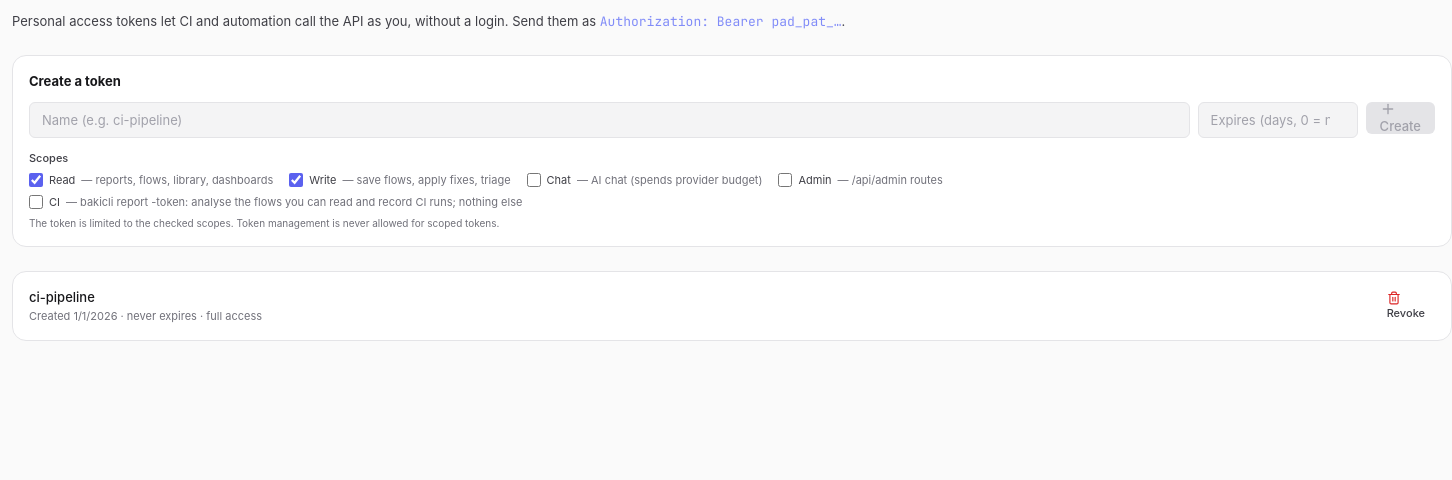
Test: ApiTokensPanel › creates a token and reveals the raw secret exactly once
The width and height of the screenshot is (1452, 480).
Expected: the text "ci-pipeline" is shown, [29, 289, 95, 305]
Type "new" into the field with placeholder "Name (e.g. ci-pipeline)".
click(609, 120); type("new")  # box [42, 111, 1177, 129]
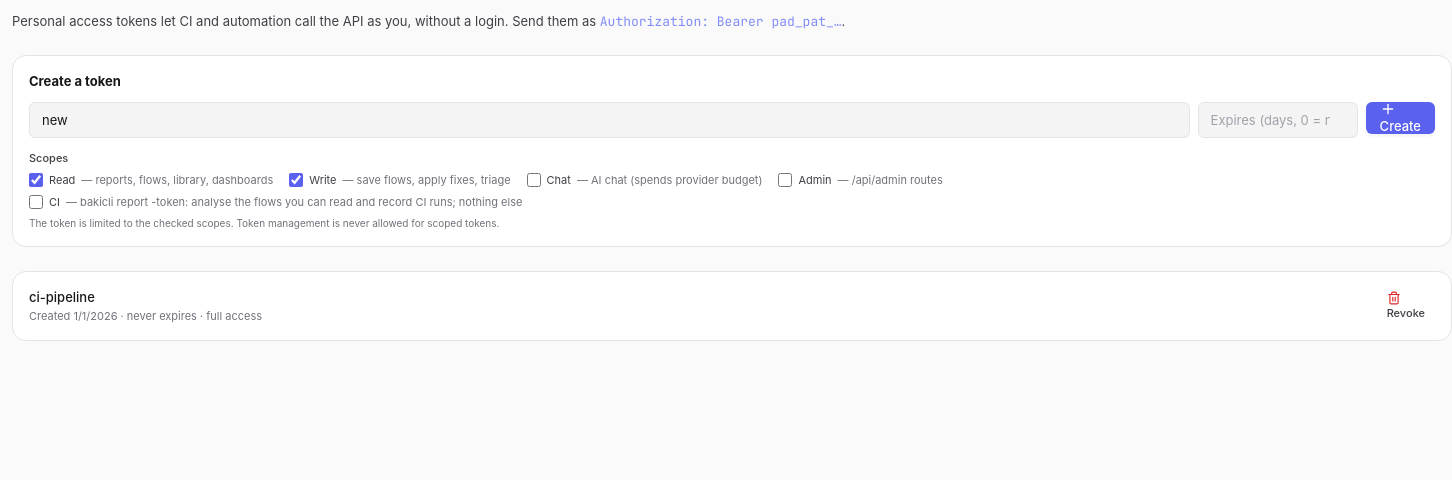
Click the button "Create".
click(1400, 118)  # box [1366, 102, 1435, 134]
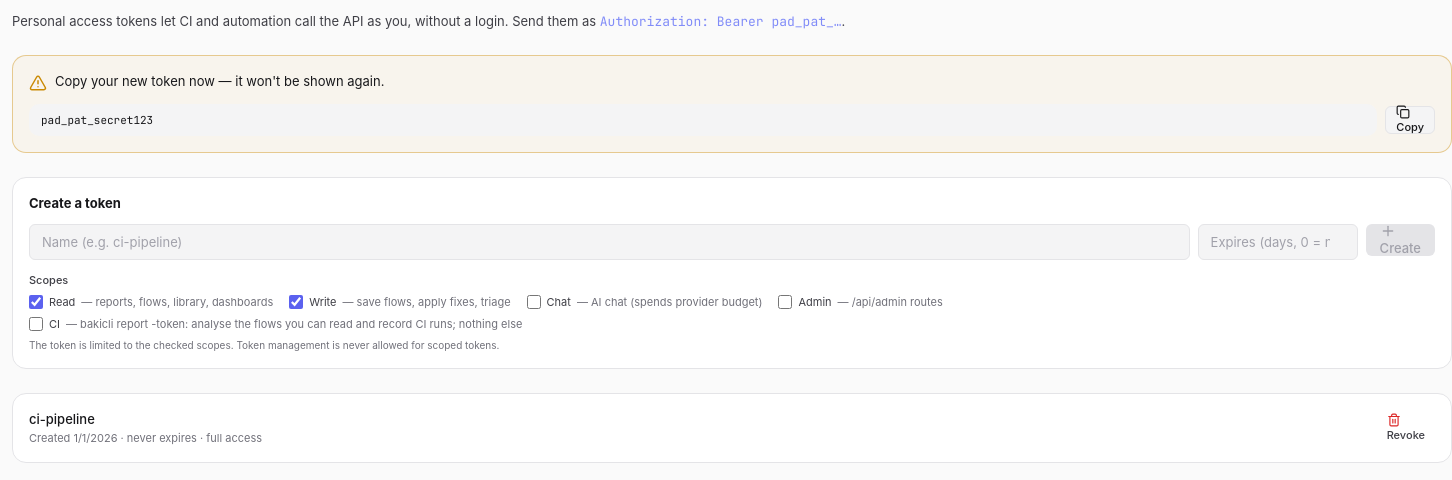
Result: the text "pad_pat_secret123" is shown at [29, 104, 1377, 136]
